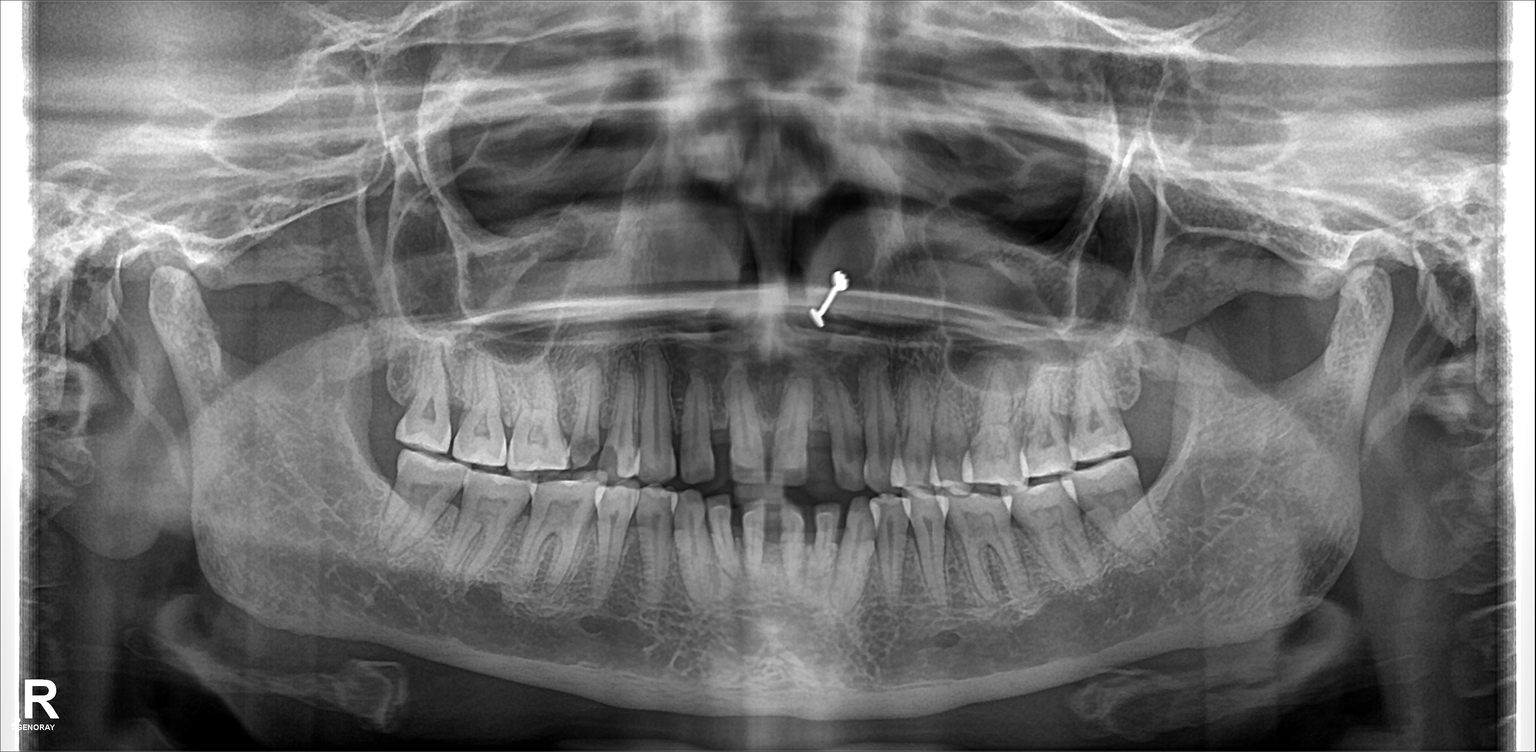Dental Caries: (596, 443, 624, 474), (574, 434, 593, 469)
Missing Tooth: (361, 329, 407, 426), (1112, 352, 1177, 419), (803, 393, 837, 489)
